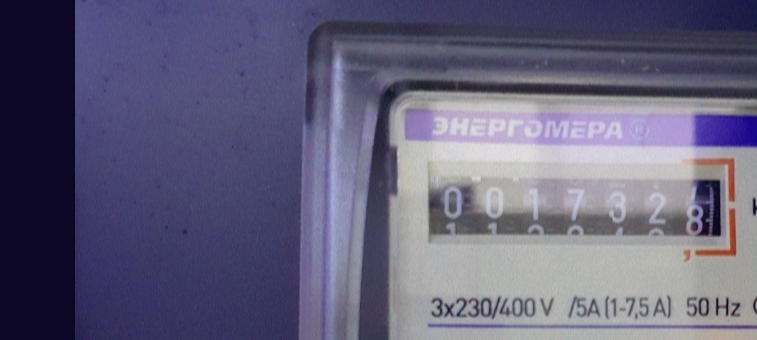0: (443, 183, 465, 220), (485, 185, 505, 219)
1: (527, 185, 542, 221)
2: (646, 191, 667, 226)
3: (607, 189, 629, 225)
7: (564, 185, 588, 223)
8: (684, 202, 704, 237)
screen: (419, 159, 741, 259)
